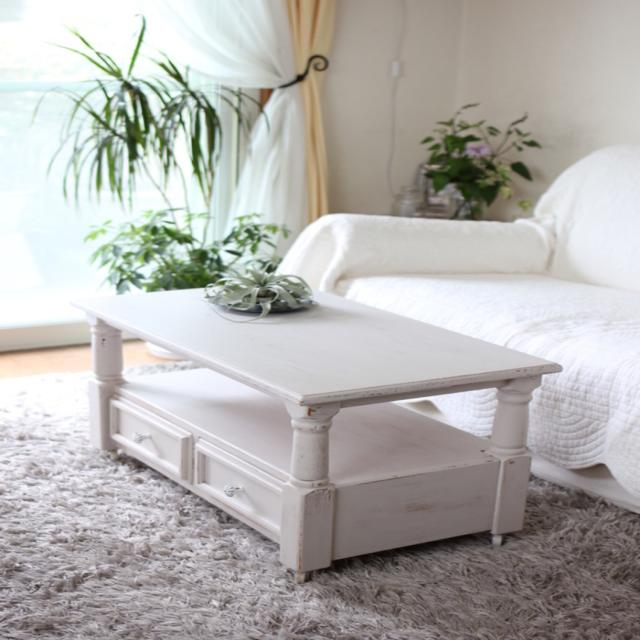white desk: (60, 267, 559, 555)
white sofa: (272, 140, 638, 483)
